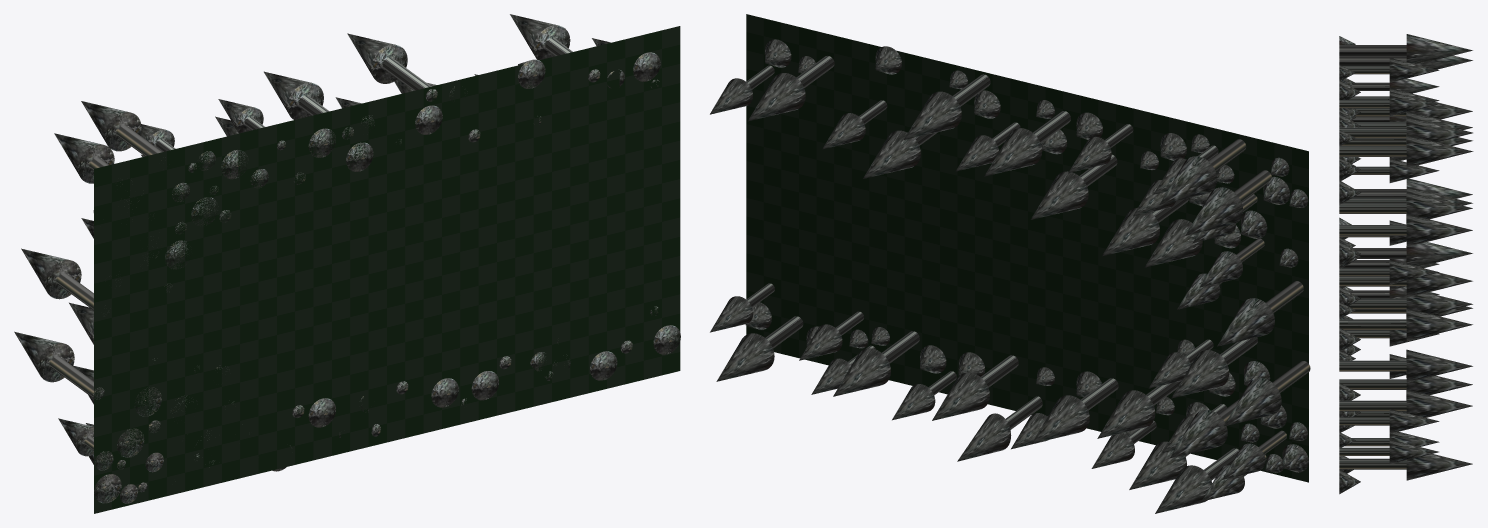
The model's file is forest02.dae.
The picture shows the model from 3 angles, left to right: view 1: azimuth 30°, elevation 25°; view 2: azimuth 150°, elevation 25°; view 3: azimuth 270°, elevation 25°; orthographic projection. The views are drawn at different scales.
Visible parts, largest first — view 1: Plane.003, Cone.121, Cone.147, Cone.112, Cone.119, Cone.137, Cone.149, Cone.118, Cone.100, Cone.124; view 2: Plane.003, Cone.147, Cone.138, Cone.135, Cone.112, Cone.155, Cone.160, Cone.137, Cone.119, Cone.121, Cone.149, Cone.118 (+24 smaller); view 3: Cone.138, Cone.135, Cone.147, Cone.149, Cone.112, Cone.155, Cone.144, Cone.160, Cone.137, Cone.125, Cone.101, Cone.102 (+32 smaller).
Part boxes in pixels (box(x1,y1,x2,y2)): Plane.003: box(94, 26, 680, 513); Cone.121: box(14, 331, 104, 399); Cone.147: box(347, 33, 437, 101); Cone.112: box(81, 101, 162, 156); Cone.119: box(21, 248, 104, 316); Cone.137: box(264, 71, 353, 139); Cone.149: box(510, 14, 600, 82); Cone.118: box(54, 133, 139, 200); Cone.100: box(218, 99, 285, 150); Cone.124: box(58, 418, 125, 469); Plane.003: box(746, 14, 1308, 482); Cone.147: box(904, 74, 990, 139); Cone.138: box(932, 355, 1018, 420); Cone.135: box(1032, 378, 1118, 443); Cone.112: box(1159, 139, 1246, 204); Cone.155: box(833, 331, 919, 396); Cone.160: box(716, 316, 803, 381); Cone.137: box(984, 111, 1070, 176); Cone.119: box(1217, 281, 1303, 346); Cone.121: box(1224, 361, 1310, 426); Cone.149: box(748, 56, 834, 121); Cone.118: box(1185, 170, 1271, 235); Cone.138: box(1339, 349, 1472, 382); Cone.135: box(1339, 308, 1472, 341); Cone.147: box(1339, 135, 1473, 167); Cone.149: box(1339, 213, 1472, 246); Cone.112: box(1339, 34, 1472, 64); Cone.155: box(1339, 389, 1472, 417); Cone.144: box(1339, 191, 1472, 219); Cone.160: box(1339, 454, 1472, 480); Cone.137: box(1339, 116, 1472, 142); Cone.125: box(1351, 242, 1472, 266); Cone.101: box(1339, 272, 1472, 297); Cone.102: box(1348, 292, 1472, 314).
Bounding box in the file's own units: 65.58 × 16 × 37.96.
